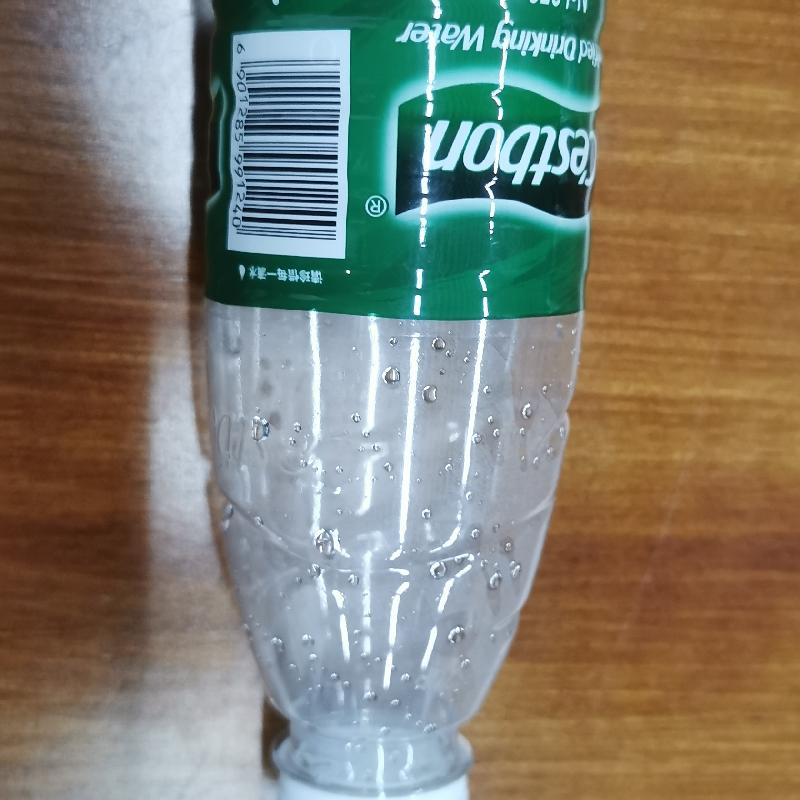bottles: (195, 1, 608, 799)
